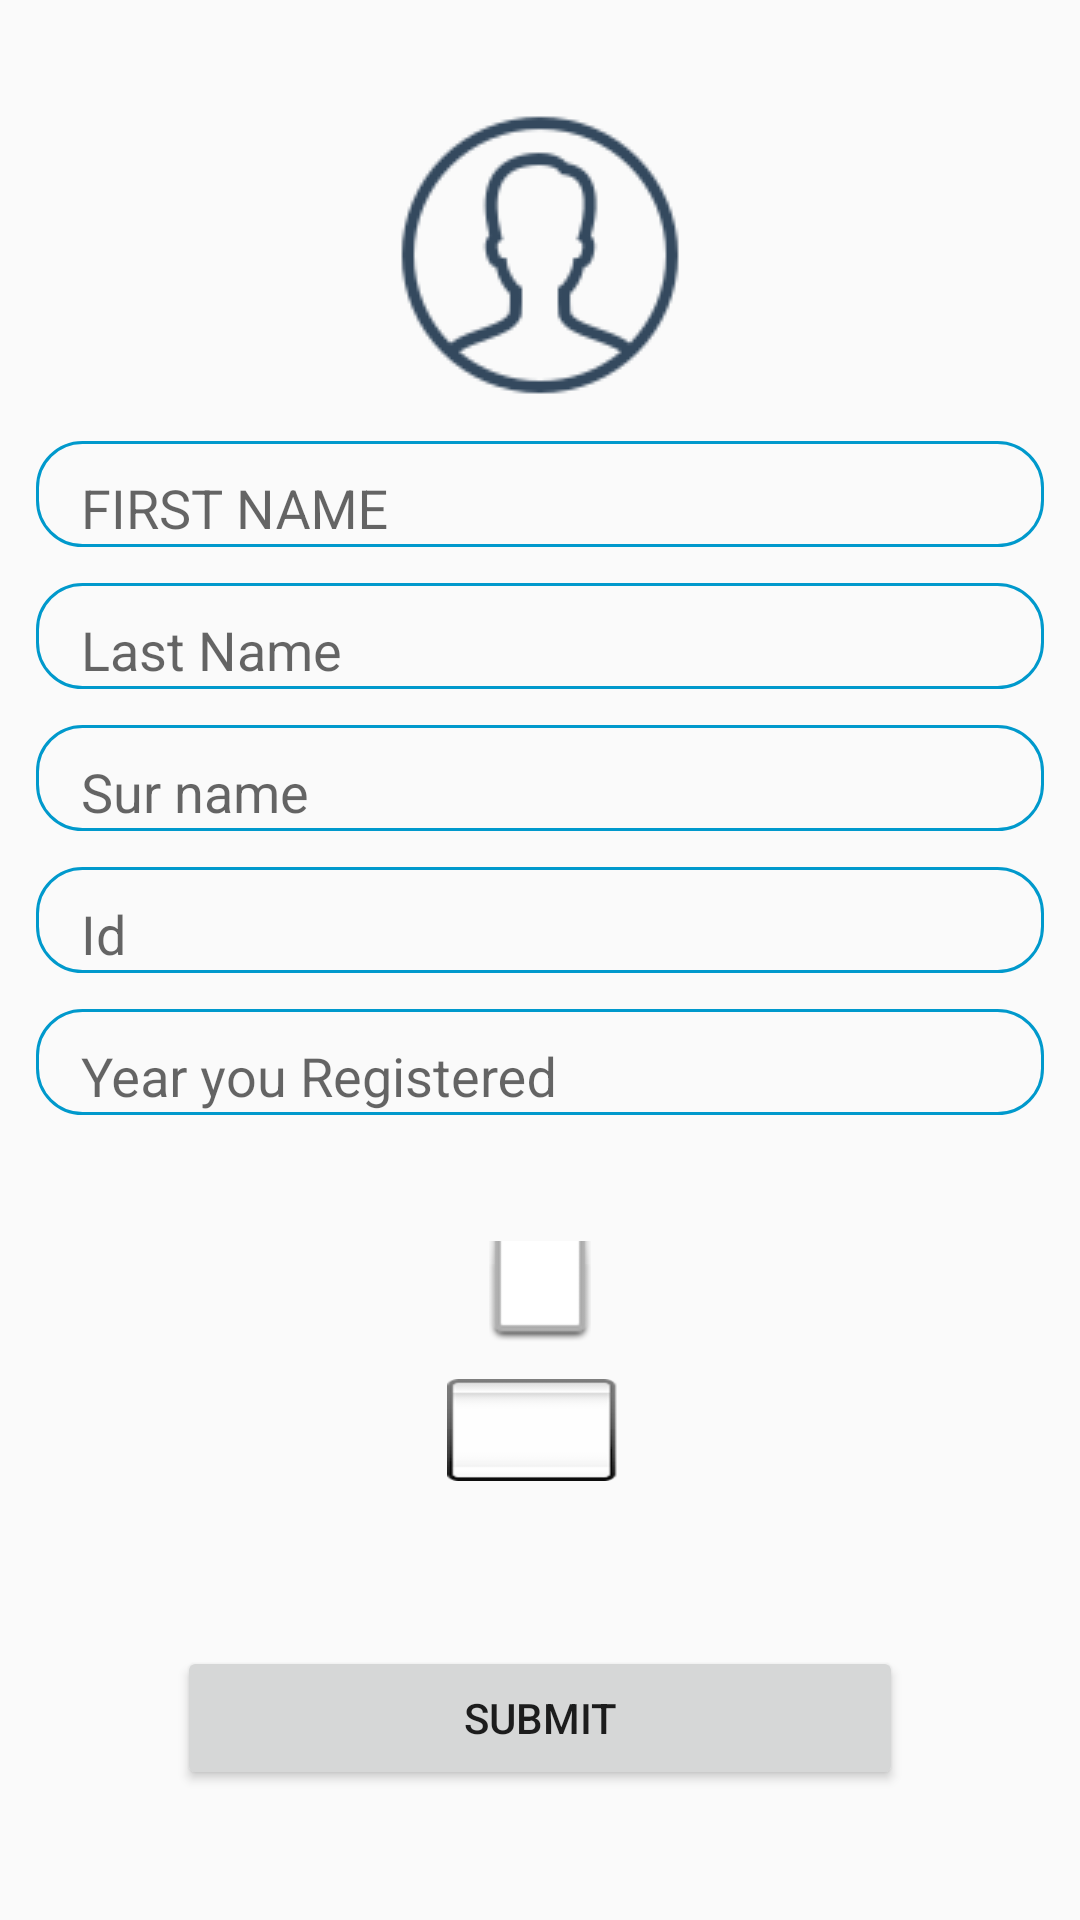

Icon bounding boxes for this 1080px x 1920px phone screenshot, format [left=x1, top=y1, right=x2, bottom=y2]:
male user: [left=401, top=116, right=679, bottom=394]
